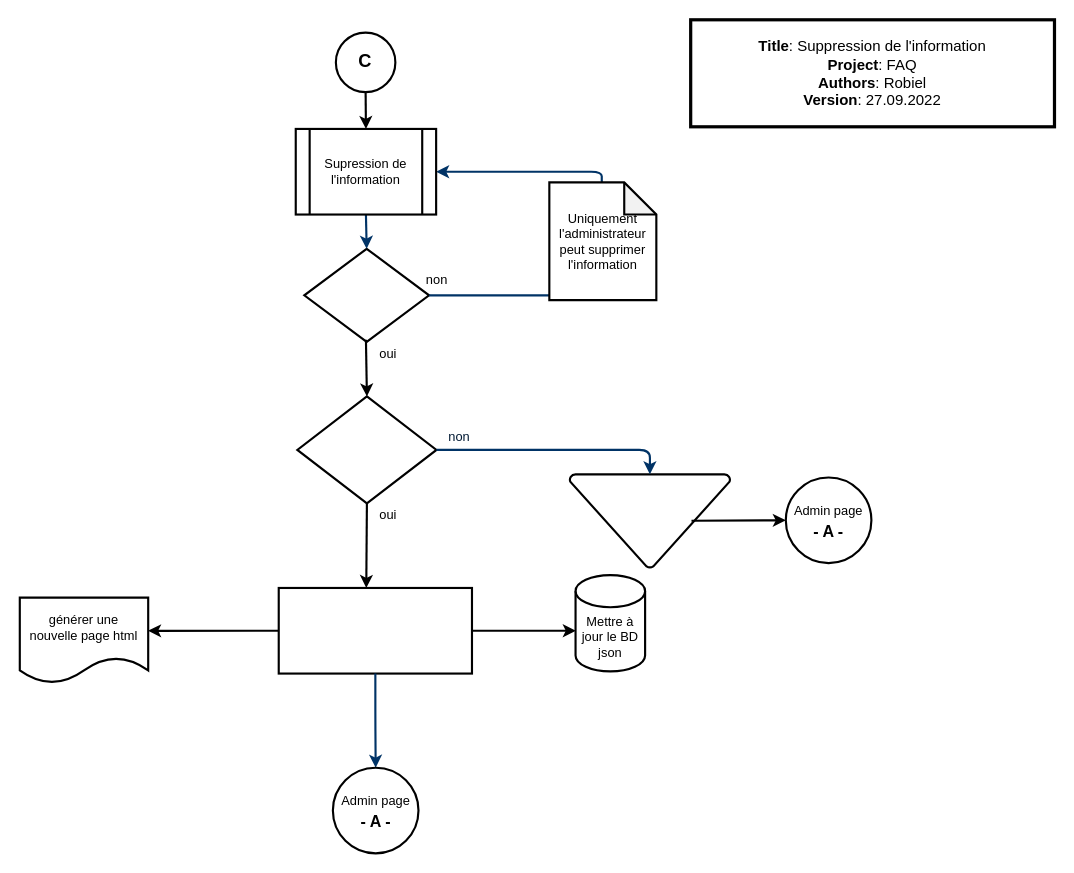
This 1074x873 diagram has some shape labels left out. Here are the shapes that lost their labels. From the top down, the box of each, then its label:
(303, 247, 430, 342): vérifier pour autorisation
(296, 395, 437, 504): Confirmation?
(568, 473, 731, 568): Terminer la requête
(277, 586, 473, 674): sauvegarder le changement
